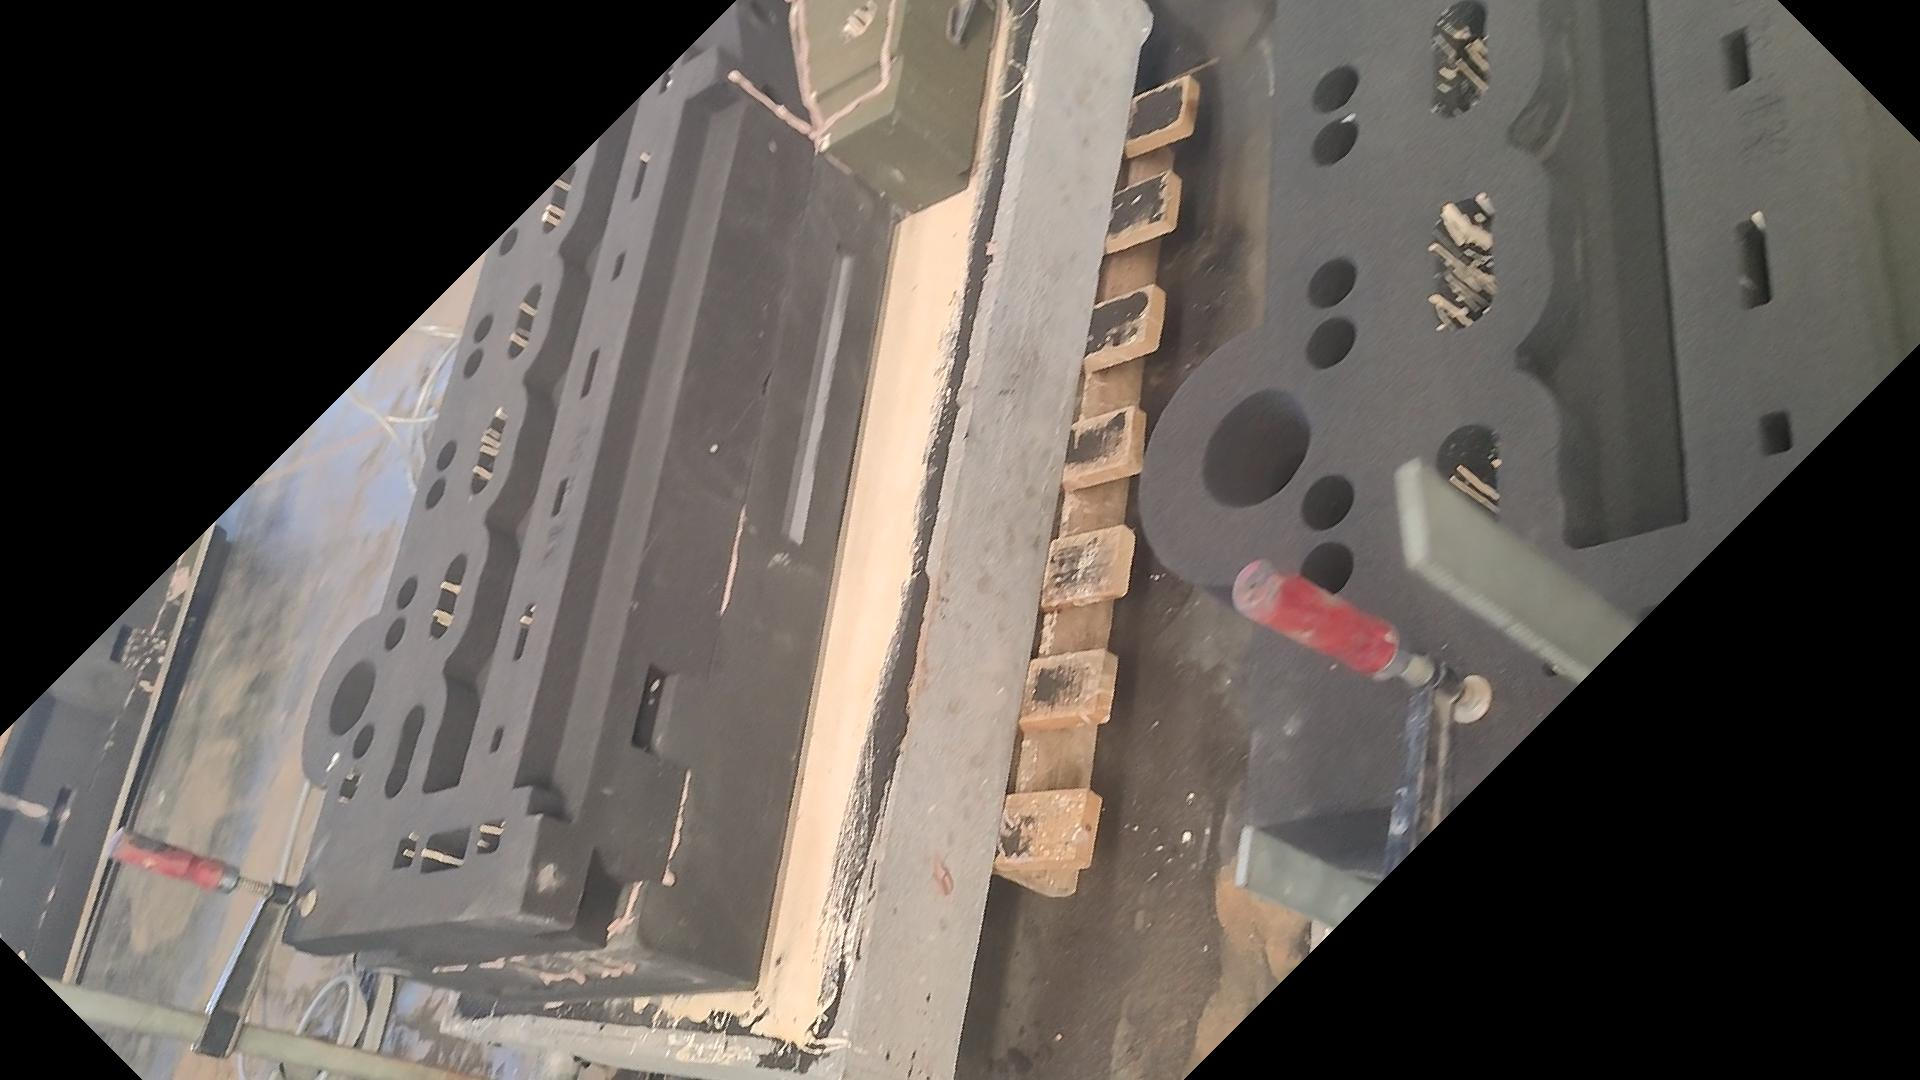pouring hole: (1200, 384, 1311, 512), (328, 658, 375, 735)
